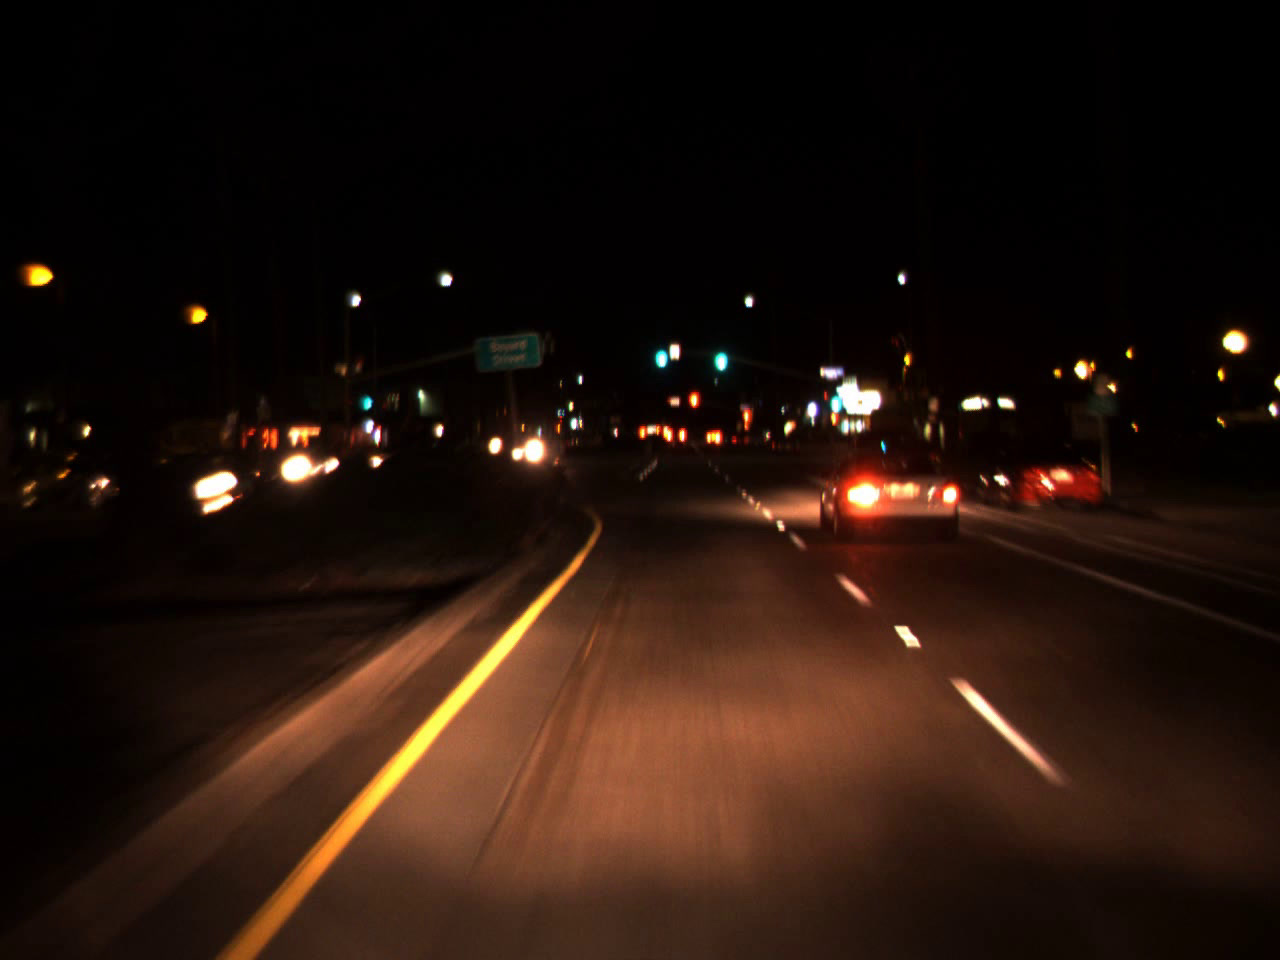go: (650, 330, 669, 372), (711, 340, 729, 376), (825, 382, 843, 418), (360, 381, 372, 414)
stop: (686, 388, 701, 431), (742, 406, 752, 435)
